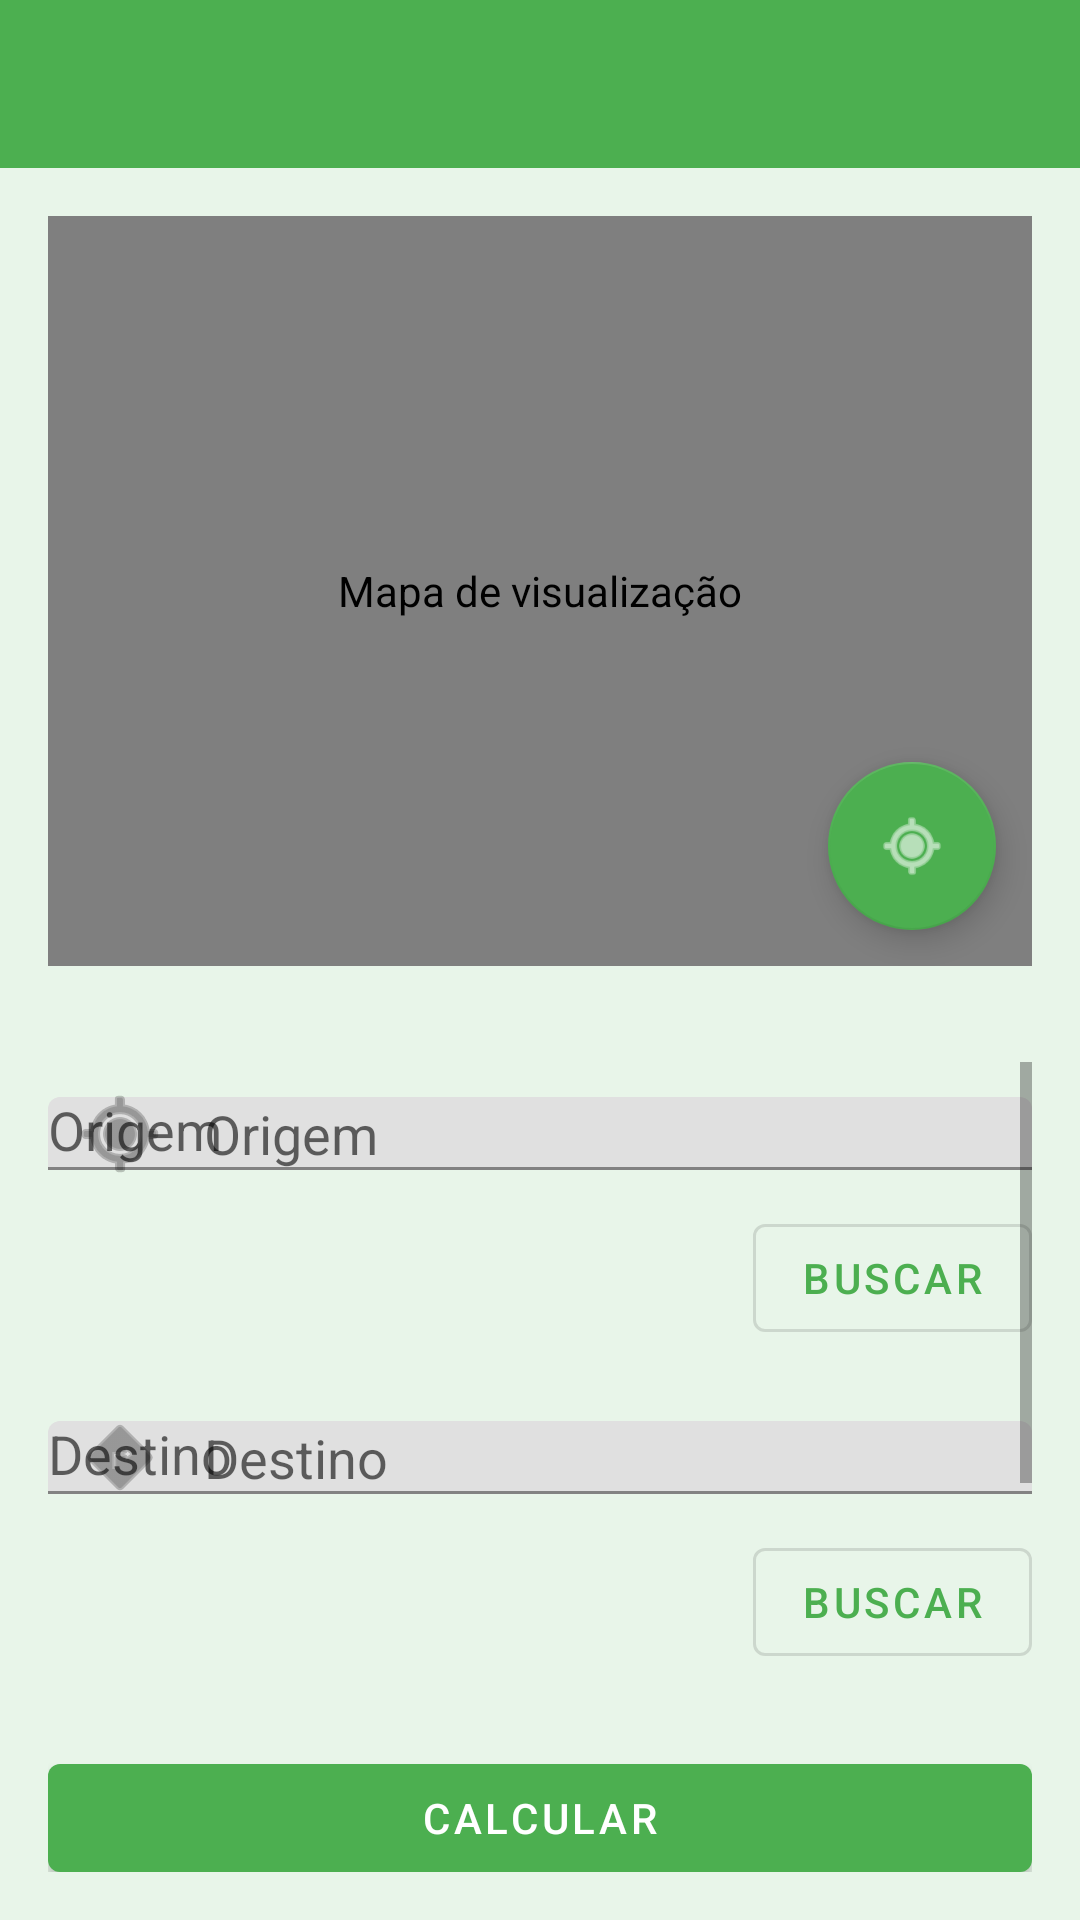

Where icons sit on this 1080x1920 app screen, as (x1, y1, x2, y2):
Recentrar mapa: (828, 762, 996, 930)
